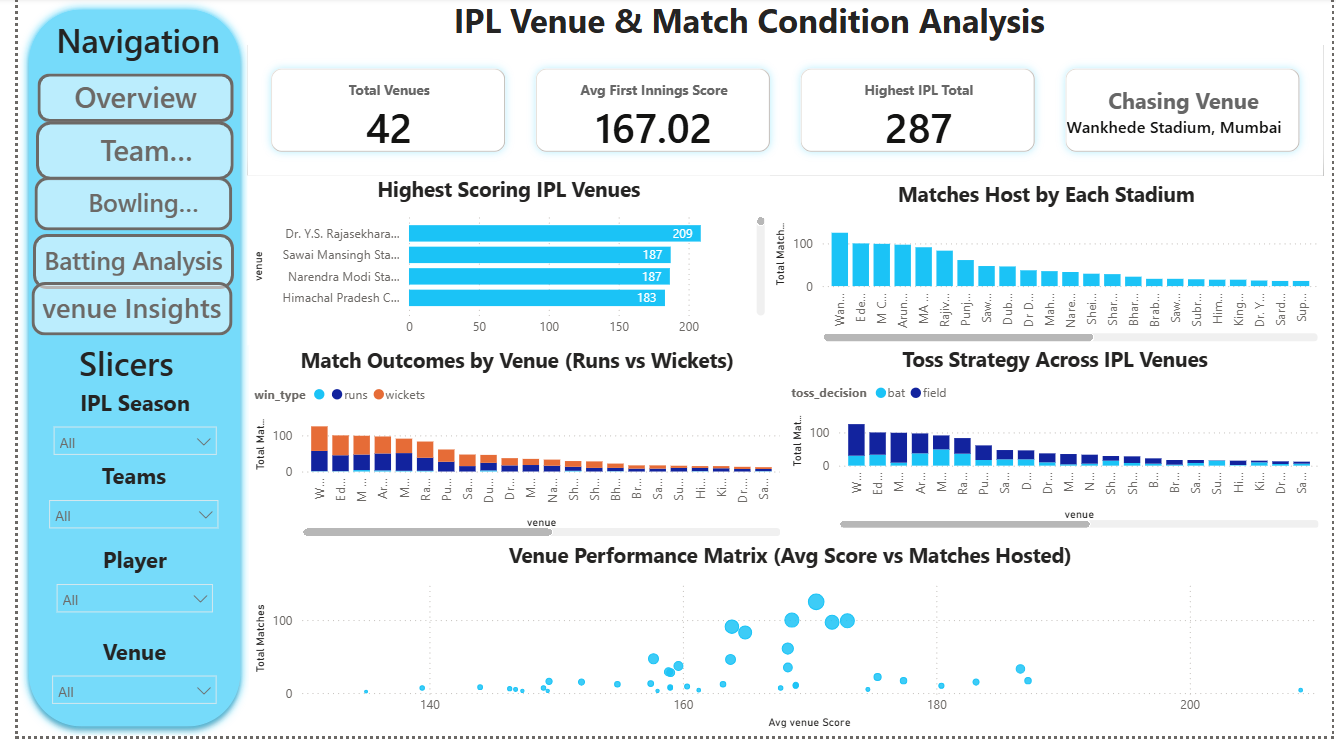

Layout of this report page (visuals, bound fields, positions):
{"tool":"powerbi","page":{"name":"Venue Insights","canvas":[1280,720],"ordinal":4},"visuals":[{"type":"group","id":"g1","title":"Group 1","box":[1.9,3.6,223.4,716.4],"z":0},{"type":"shape","box":[1.9,3.6,224.2,716.9],"z":500,"group":"g1"},{"type":"textbox","title":"IPL Venue & Match Condition Analysis","box":[420,0,631.6,47.4],"z":1000},{"type":"cardVisual","fields":{"Data":["Calculated_Measures.Total Venues","Calculated_Measures.Avg First Innings Score","Calculated_Measures.Highest IPL Total","Min(Best Chasing Venue.venue)"]},"box":[224.2,47.4,1048.4,127.9],"z":2000},{"type":"slicer","title":"Venue","fields":{"Values":["matches.venue"]},"box":[24,622.6,180,72.6],"z":2937,"group":"g1"},{"type":"barChart","title":"Highest Scoring IPL Venues","fields":{"Category":["matches.venue"],"Y":["Calculated_Measures.Avg First Innings Score"]},"box":[224.1,174.1,508.8,165],"z":3000},{"type":"columnChart","title":"Matches Host by Each Stadium","fields":{"Y":["Calculated_Measures.Total Matches"],"Category":["matches.venue"]},"box":[732.9,178.7,539.1,162],"z":4000},{"type":"columnChart","title":"Match Outcomes by Venue (Runs vs Wickets)","fields":{"Category":["matches.venue"],"Series":["matches.win_type"],"Y":["Calculated_Measures.Total Matches"]},"box":[225.8,341.1,522.6,189.5],"z":5000},{"type":"actionButton","box":[19.3,74.7,191.1,47.4],"z":5375,"group":"g1"},{"type":"slicer","title":"IPL Season","fields":{"Values":["matches.Season Label"]},"box":[25.6,381,178.4,71.1],"z":5679,"group":"g1"},{"type":"actionButton","box":[16.1,175.7,192.6,52.1],"z":5984,"group":"g1"},{"type":"columnChart","title":"Toss Strategy Across IPL Venues","fields":{"Category":["matches.venue"],"Series":["matches.toss_decision"],"Y":["Calculated_Measures.Total Matches"]},"box":[748,339.2,523.9,183.2],"z":6000},{"type":"slicer","title":"Player","fields":{"Values":["deliveries.batter"]},"box":[28.7,534.1,172.1,75.8],"z":6288,"group":"g1"},{"type":"actionButton","box":[14.5,231,195.8,53.7],"z":6593,"group":"g1"},{"type":"scatterChart","title":"Venue Performance Matrix (Avg Score vs Matches Hosted)","fields":{"Y":["Calculated_Measures.Total Matches"],"Category":["matches.venue"],"Size":["Calculated_Measures.Total Matches"],"X":["Calculated_Measures.Avg First Innings Score"]},"box":[225.8,530.5,1054.8,186.3],"z":7000},{"type":"slicer","title":"Teams","fields":{"Values":["matches.team1"]},"box":[20.8,452,184.7,69.5],"z":7202,"group":"g1"},{"type":"actionButton","box":[13,278.3,195.8,52.1],"z":7812,"group":"g1"},{"type":"textbox","box":[7.7,329.1,196.4,63.6],"z":10250,"group":"g1"},{"type":"textbox","box":[31.9,14.7,178.4,60],"z":10750,"group":"g1"},{"type":"actionButton","box":[17.7,122,192.6,56.8],"z":11250,"group":"g1"}]}

Visuals, with their boxes in screenshot pixels (x1, y1, x2, y2), scaled from the page's 1280x720 canvas onto the 1336x745 screenshot:
"Group 1" group: BBox(2, 4, 235, 744)
shape: BBox(2, 4, 236, 744)
"IPL Venue & Match Condition Analysis" textbox: BBox(438, 0, 1098, 49)
cardVisual - Calculated_Measures.Total Venues x Calculated_Measures.Avg First Innings Score: BBox(234, 49, 1328, 181)
"Venue" slicer: BBox(25, 644, 213, 719)
"Highest Scoring IPL Venues" barChart: BBox(234, 180, 765, 351)
"Matches Host by Each Stadium" columnChart: BBox(765, 185, 1328, 353)
"Match Outcomes by Venue (Runs vs Wickets)" columnChart: BBox(236, 353, 781, 549)
actionButton: BBox(20, 77, 220, 126)
"IPL Season" slicer: BBox(27, 394, 213, 468)
actionButton: BBox(17, 182, 218, 236)
"Toss Strategy Across IPL Venues" columnChart: BBox(781, 351, 1328, 541)
"Player" slicer: BBox(30, 553, 210, 631)
actionButton: BBox(15, 239, 220, 295)
"Venue Performance Matrix (Avg Score vs Matches Hosted)" scatterChart: BBox(236, 549, 1335, 742)
"Teams" slicer: BBox(22, 468, 214, 540)
actionButton: BBox(14, 288, 218, 342)
textbox: BBox(8, 341, 213, 406)
textbox: BBox(33, 15, 220, 77)
actionButton: BBox(18, 126, 220, 185)
